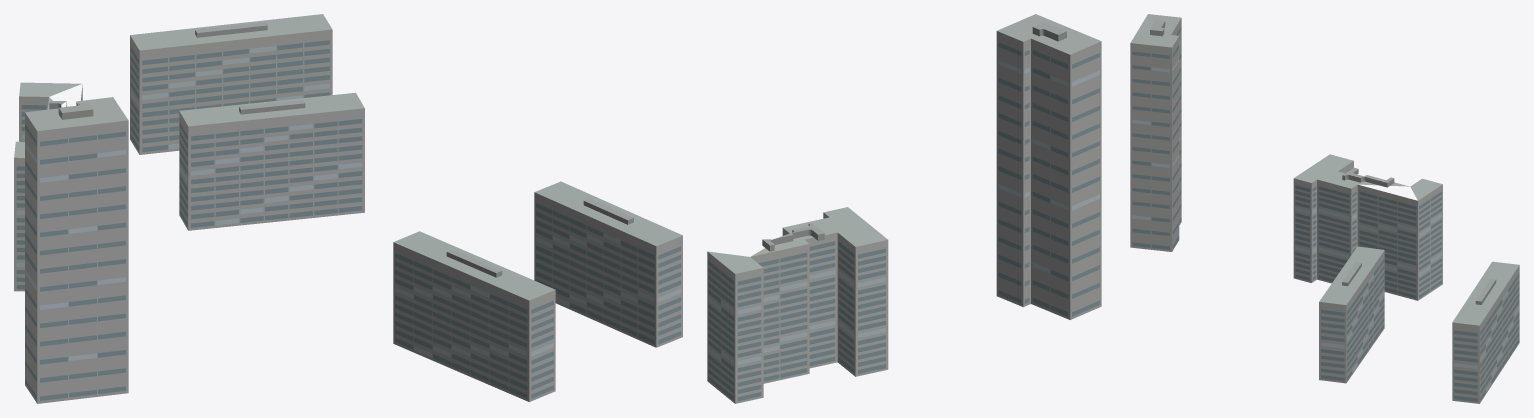
Rendered from apt-a13790703.glb.
3 renders of one model, left to right at view 1: azimuth 30°, elevation 25°; view 2: azimuth 150°, elevation 25°; view 3: azimuth 270°, elevation 25°, orthographic. The views are drawn at different scales.
Visible parts, largest first — view 1: apt-a13790703; view 2: apt-a13790703; view 3: apt-a13790703.
Boxes of the visible parts, bbox=[...] form: apt-a13790703: bbox=[14, 14, 364, 403]; apt-a13790703: bbox=[393, 14, 1101, 403]; apt-a13790703: bbox=[1130, 14, 1519, 403].
Bounding box in the file's own units: 186 × 98.01 × 165.
